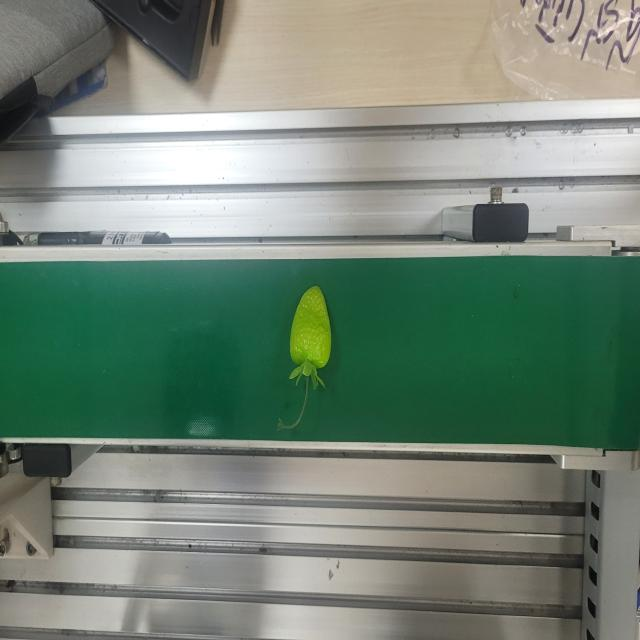Small Unripe Strawberry: (275, 280, 334, 435)
